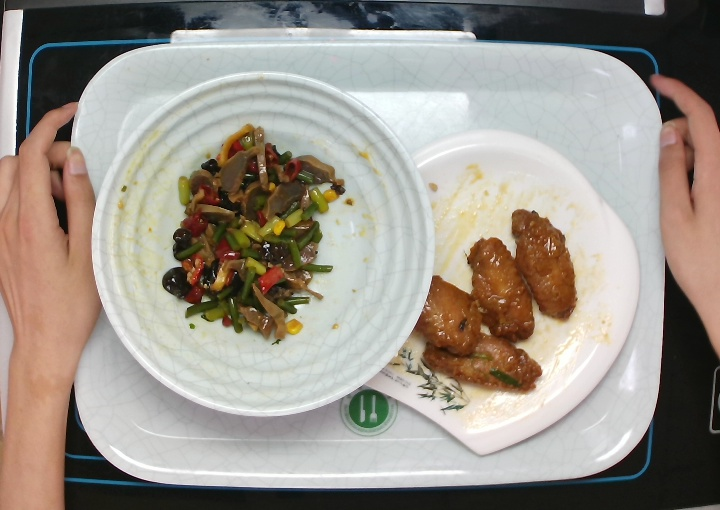JYsf-Da_Tang_Wan: (88, 70, 437, 418)
JYsf-Mian_Pan: (363, 130, 643, 460)
